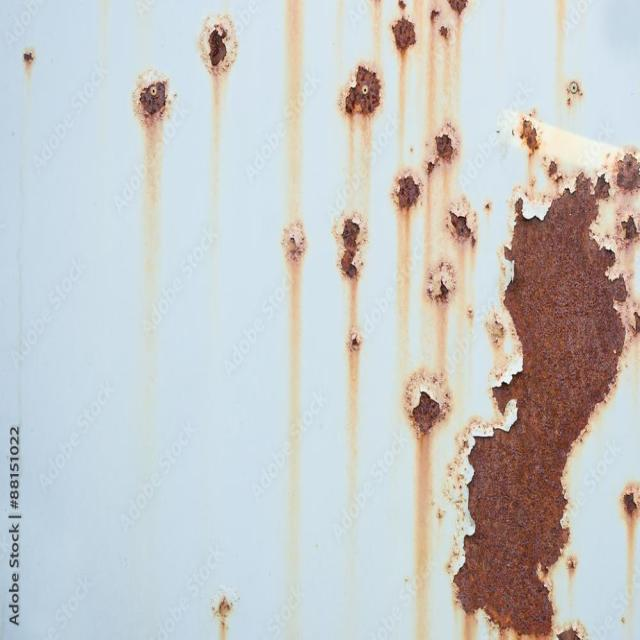Pitting Corrosion: (387, 0, 639, 639), (333, 0, 384, 524), (280, 0, 308, 636), (132, 70, 177, 271), (198, 13, 239, 200), (620, 481, 639, 577), (211, 591, 235, 639)
